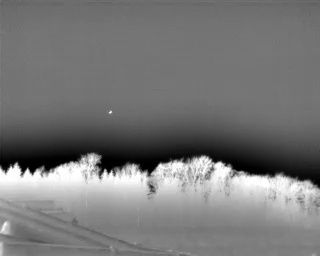BIRD: (107, 108, 114, 117)
